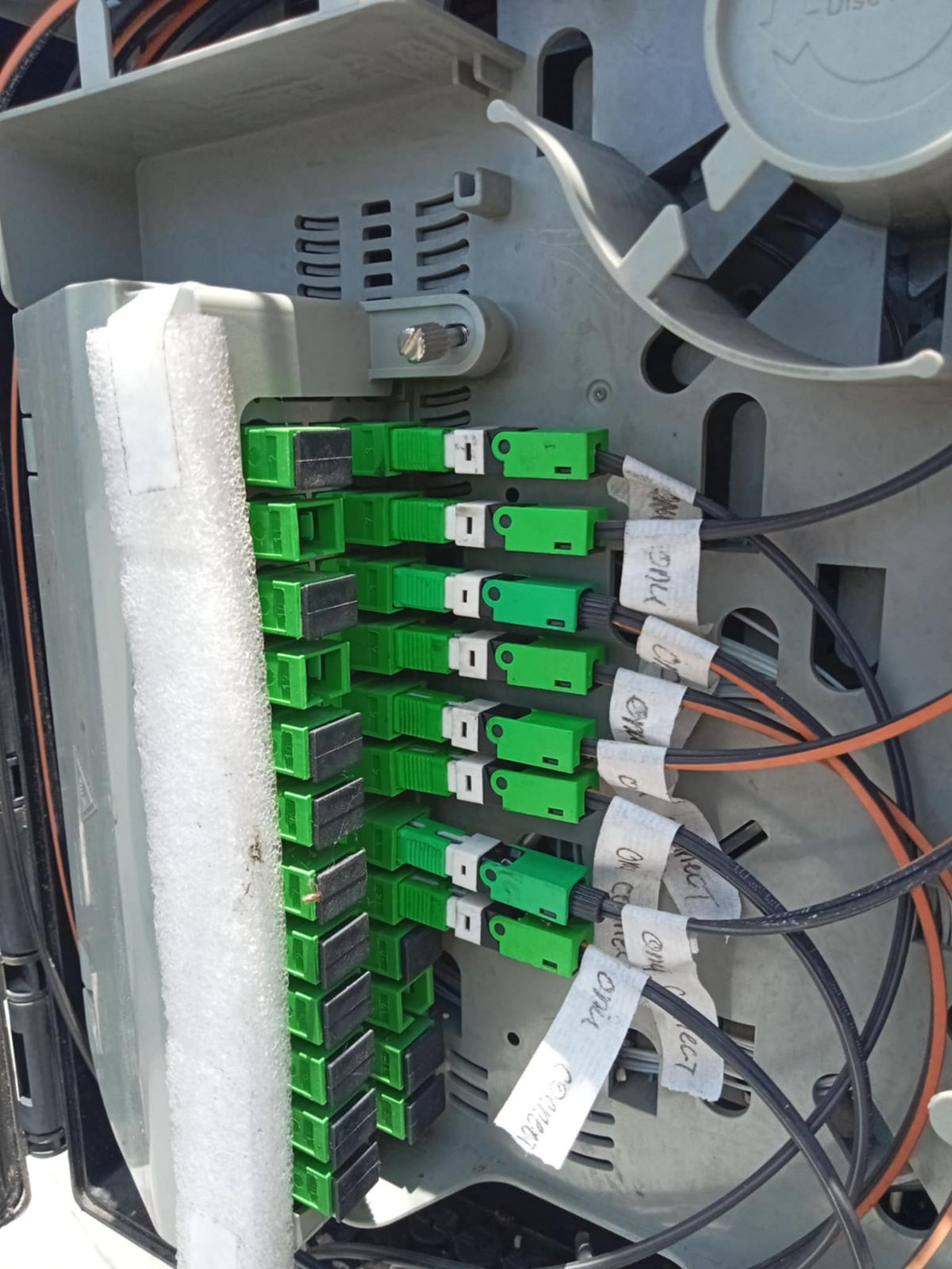no dust cap: (301, 644, 351, 709), (292, 499, 345, 560), (397, 966, 434, 1033)
occupied: (401, 812, 616, 938), (400, 872, 599, 985), (398, 741, 600, 828), (397, 690, 601, 776), (395, 563, 620, 635), (397, 627, 605, 696), (389, 498, 613, 561), (393, 427, 607, 479)
vacant: (322, 911, 371, 991), (324, 971, 372, 1051), (332, 1091, 379, 1171), (328, 1029, 375, 1109), (318, 851, 367, 925), (304, 574, 358, 641), (293, 429, 353, 489), (316, 778, 364, 851), (336, 1142, 379, 1223), (313, 714, 361, 784), (404, 1018, 445, 1094), (407, 1072, 447, 1148), (402, 915, 443, 984)
